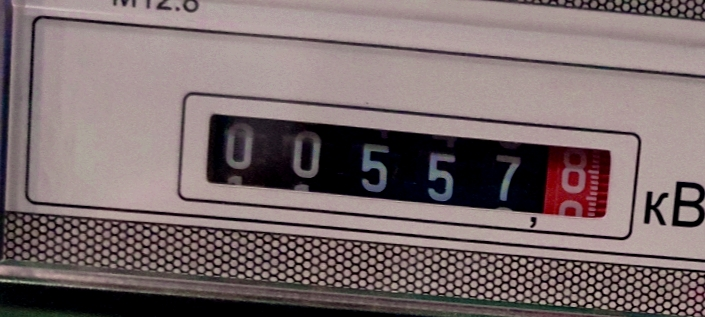0: (220, 117, 259, 175), (288, 127, 325, 181)
5: (421, 145, 463, 206), (356, 139, 394, 197)
7: (487, 149, 523, 206)
8: (559, 147, 590, 198)
screen: (171, 84, 647, 247)
